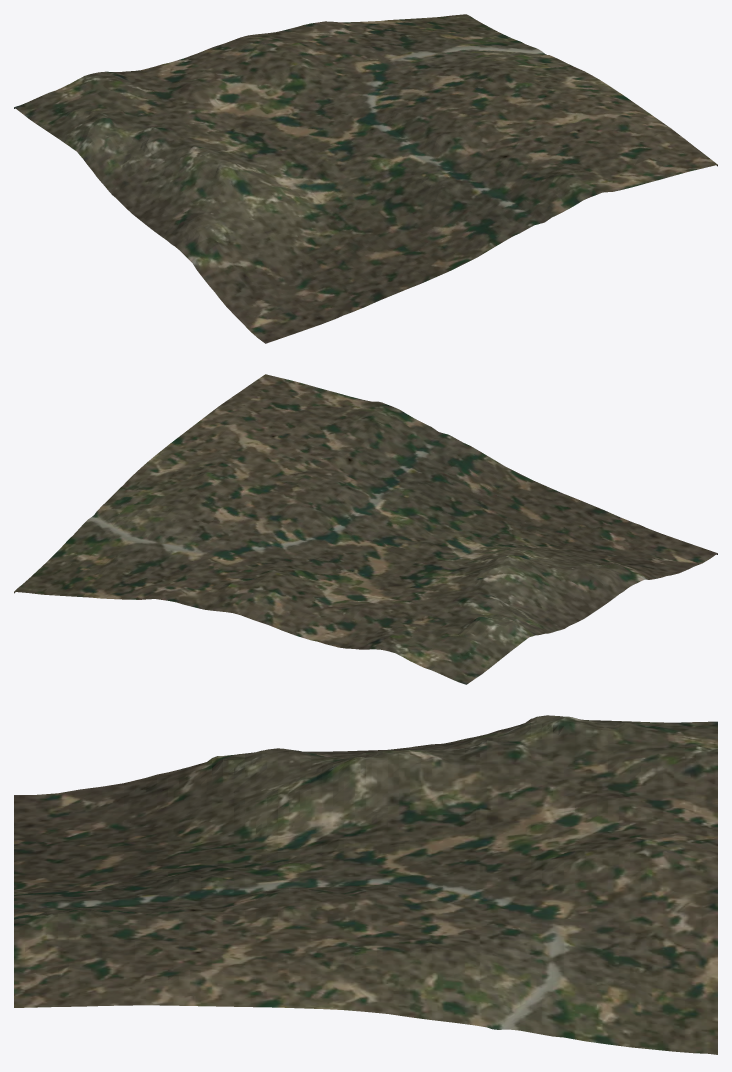
The picture shows the model from 3 angles, top to bottom: view 1: azimuth 30°, elevation 25°; view 2: azimuth 150°, elevation 25°; view 3: azimuth 270°, elevation 25°; orthographic projection. The views are drawn at different scales.
Size of the model in its own units: 250 by 41.08 by 241.
1 material, 1 textured.
